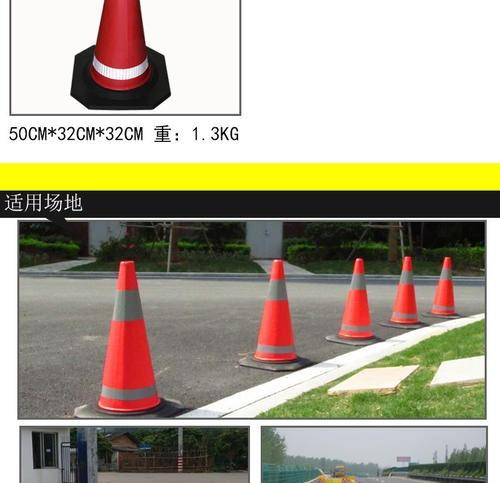cone_barrel: (78, 257, 173, 417), (241, 253, 306, 370), (330, 254, 378, 344), (383, 248, 423, 329), (427, 252, 460, 320)
